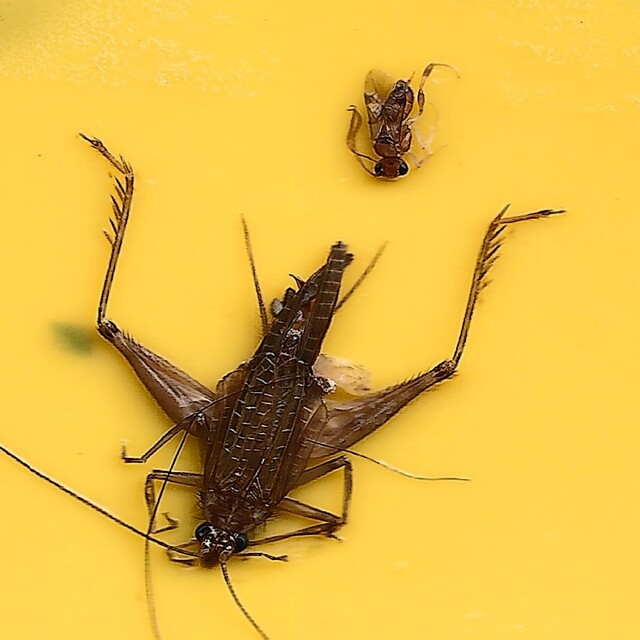Hymenoptera: (344, 62, 458, 183)
Orthoptera: (76, 134, 564, 578)
